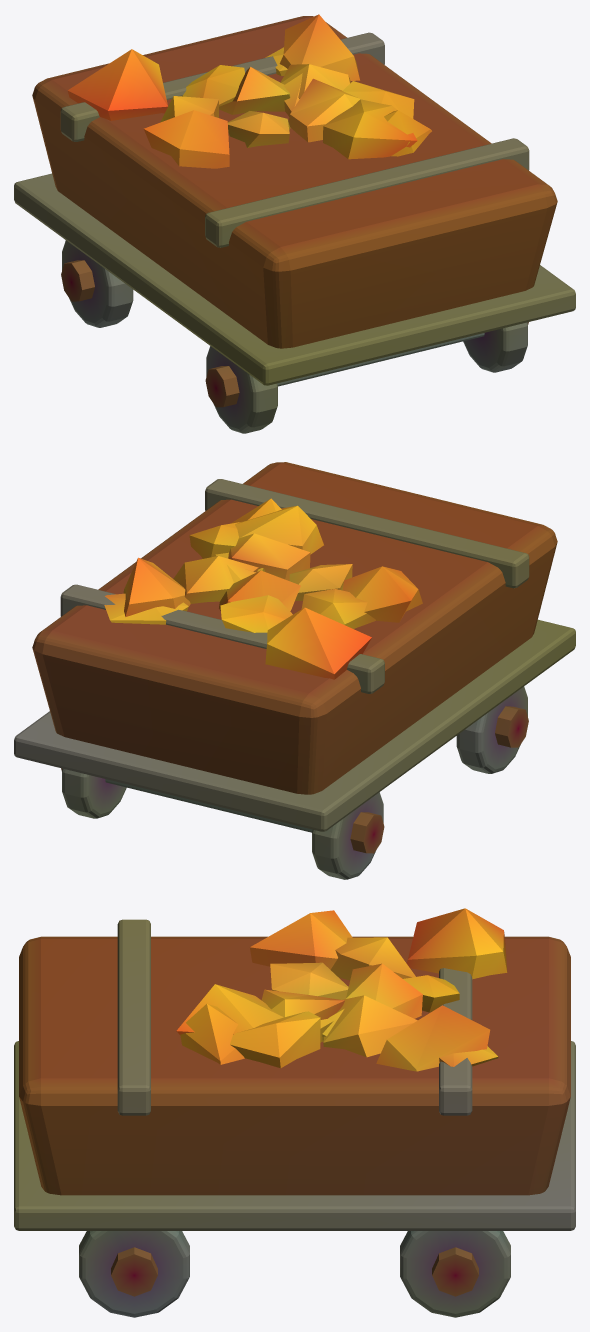
Rendered from MineCart_Gold_01.glb.
The picture shows the model from 3 angles, top to bottom: view 1: azimuth 30°, elevation 25°; view 2: azimuth 150°, elevation 25°; view 3: azimuth 270°, elevation 25°; orthographic projection. The views are drawn at different scales.
Parts seen in each view (by area): view 1: MineCart_Gold_01; view 2: MineCart_Gold_01; view 3: MineCart_Gold_01.
Boxes of the visible parts, <box> form: MineCart_Gold_01: <box>14,14,575,433</box>; MineCart_Gold_01: <box>14,462,575,879</box>; MineCart_Gold_01: <box>14,908,575,1317</box>.
Size of the model in its own units: 1.2 by 0.9562 by 1.68.
